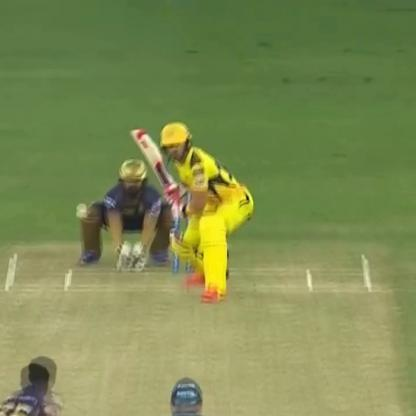ball: (74, 209, 93, 225), (73, 200, 94, 211)
bat: (128, 123, 188, 216)
pitch: (1, 246, 416, 415)
